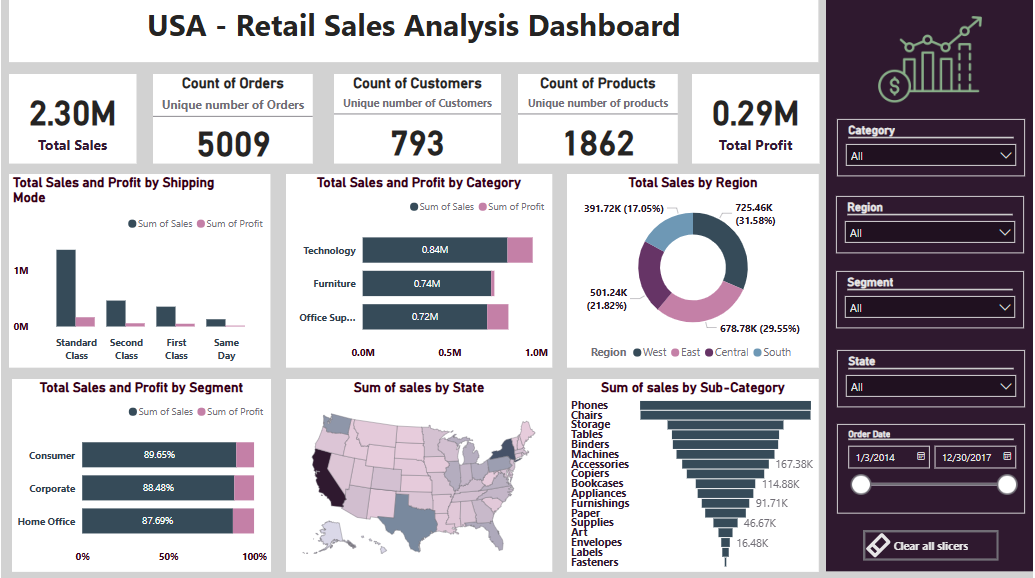

This screenshot's page, from the dashboard's own definition file:
{"tool":"powerbi","page":{"name":"Dashboard","canvas":[1280,720],"ordinal":0},"visuals":[{"type":"textbox","box":[1022.4,0,257.9,707.9],"z":0},{"type":"textbox","box":[10.1,0,1003.4,76.6],"z":1000},{"type":"image","box":[1034.2,0,232.9,147.4],"z":2000},{"type":"slicer","fields":{"Values":["Orders.Segment"]},"box":[1034.2,335.5,232.9,71.1],"z":3000},{"type":"slicer","fields":{"Values":["Orders.Region"]},"box":[1034.2,243.4,232.9,71.1],"z":4000},{"type":"slicer","fields":{"Values":["Orders.Category"]},"box":[1035.5,147.4,232.9,71.1],"z":5000},{"type":"slicer","fields":{"Values":["Orders.State"]},"box":[1035.5,434.2,232.9,71.1],"z":6000},{"type":"slicer","fields":{"Values":["Orders.Order Date"]},"box":[1035.5,525,232.9,110.5],"z":7000},{"type":"card","fields":{"Values":["Sum(Orders.Sales)"]},"box":[10.1,91.1,157.6,111.3],"z":8000},{"type":"card","fields":{"Values":["Sum(Orders.Profit)"]},"box":[855.9,91.1,157.6,111.3],"z":9000},{"type":"card","title":"Count  of Orders","fields":{"Values":["Count(Orders.Order ID)"]},"box":[188,91.1,198.1,111.3],"z":10000},{"type":"card","title":"Count  of Customers","fields":{"Values":["Count(Orders.Customer ID)"]},"box":[412,91.1,206.7,111.3],"z":11000},{"type":"card","title":"Count  of Products","fields":{"Values":["Count(Orders.Product ID)"]},"box":[640.5,91.1,198.1,111.3],"z":12000},{"type":"clusteredColumnChart","title":"Total Sales and Profit by Shipping  Mode","fields":{"Category":["Orders.Ship Mode"],"Y":["Sum(Orders.Sales)","Sum(Orders.Profit)"]},"box":[10.1,215.4,323.9,240],"z":13000},{"type":"barChart","title":"Total Sales and Profit by Category","fields":{"Y":["Sum(Orders.Sales)","Sum(Orders.Profit)"],"Category":["Orders.Category"]},"box":[352.8,215.4,329.6,240],"z":14000},{"type":"donutChart","title":"Total Sales by Region","fields":{"Y":["Sum(Orders.Sales)"],"Category":["Orders.Region"]},"box":[701.2,215.4,312.3,240],"z":15000},{"type":"hundredPercentStackedBarChart","title":"Total Sales and Profit by Segment","fields":{"Y":["Sum(Orders.Sales)","Sum(Orders.Profit)"],"Category":["Orders.Segment"]},"box":[13,469.9,321,238.6],"z":16000},{"type":"shapeMap","title":"Sum of sales by State","fields":{"Category":["Orders.State"],"Value":["Sum(Orders.Sales)"]},"box":[352.8,469.9,329.6,238.6],"z":17000},{"type":"funnel","title":"Sum of sales by Sub-Category","fields":{"Y":["Sum(Orders.Sales)"],"Category":["Orders.Sub-Category"]},"box":[701.2,469.9,312.3,238.6],"z":18000},{"type":"actionButton","box":[1068.4,656.6,168.4,38.2],"z":19000}]}

Visuals, with their boxes in screenshot pixels (x1, y1, x2, y2), scaled from the page's 1280x720 canvas onto the 1035x578 screenshot:
textbox: crop(827, 0, 1034, 568)
textbox: crop(8, 0, 820, 61)
image: crop(836, 0, 1025, 118)
slicer - Orders.Segment: crop(836, 269, 1025, 326)
slicer - Orders.Region: crop(836, 195, 1025, 252)
slicer - Orders.Category: crop(837, 118, 1026, 175)
slicer - Orders.State: crop(837, 349, 1026, 406)
slicer - Orders.Order Date: crop(837, 421, 1026, 510)
card - Sum(Orders.Sales): crop(8, 73, 136, 162)
card - Sum(Orders.Profit): crop(692, 73, 820, 162)
"Count  of Orders" card: crop(152, 73, 312, 162)
"Count  of Customers" card: crop(333, 73, 500, 162)
"Count  of Products" card: crop(518, 73, 678, 162)
"Total Sales and Profit by Shipping  Mode" clusteredColumnChart: crop(8, 173, 270, 366)
"Total Sales and Profit by Category" barChart: crop(285, 173, 552, 366)
"Total Sales by Region" donutChart: crop(567, 173, 820, 366)
"Total Sales and Profit by Segment" hundredPercentStackedBarChart: crop(11, 377, 270, 569)
"Sum of sales by State" shapeMap: crop(285, 377, 552, 569)
"Sum of sales by Sub-Category" funnel: crop(567, 377, 820, 569)
actionButton: crop(864, 527, 1000, 558)
